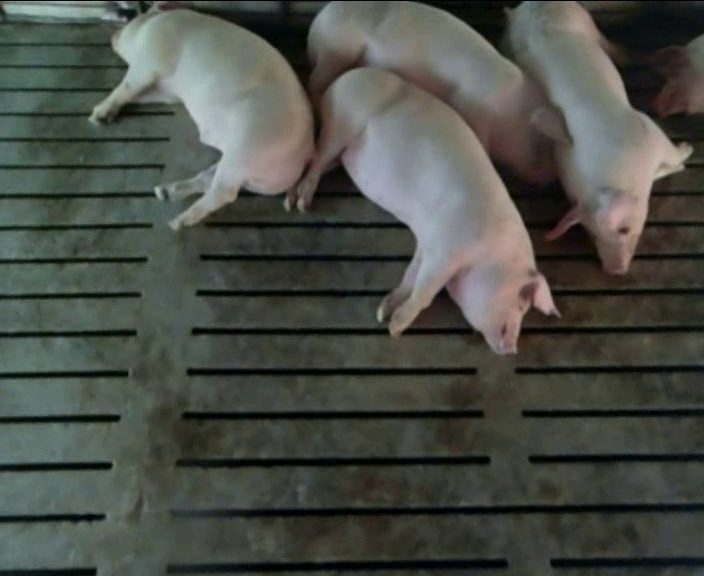pig: (287, 68, 557, 353), (500, 2, 691, 273), (89, 1, 312, 228), (308, 2, 571, 182)
